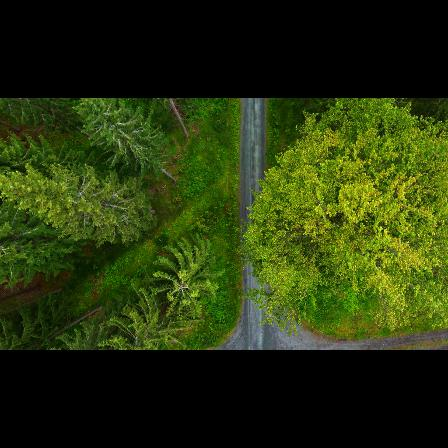Sick: (164, 270, 198, 306)
